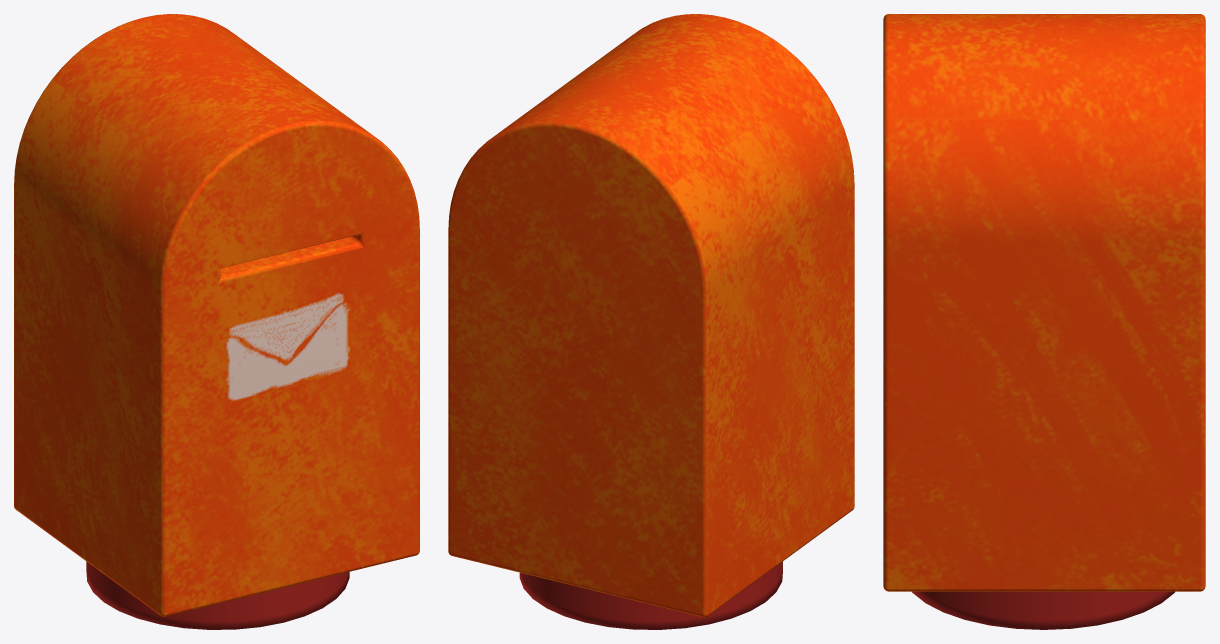
File: postbox3.glb
3 views of the same model, side by side, from view 1: azimuth 30°, elevation 25°; view 2: azimuth 150°, elevation 25°; view 3: azimuth 270°, elevation 25° (orthographic). The views are drawn at different scales.
Visible parts, largest first — view 1: Circle, Cylinder.001; view 2: Circle, Cylinder.001; view 3: Circle, Cylinder.001.
Boxes of the visible parts, <box> form: Circle: <box>14,14,419,616</box>; Cylinder.001: <box>86,561,349,629</box>; Circle: <box>448,14,854,617</box>; Cylinder.001: <box>519,561,782,629</box>; Circle: <box>883,14,1205,591</box>; Cylinder.001: <box>912,591,1174,629</box>.
Size of the model in its own units: 30 by 56 by 29.99.
2 materials, 1 textured.
